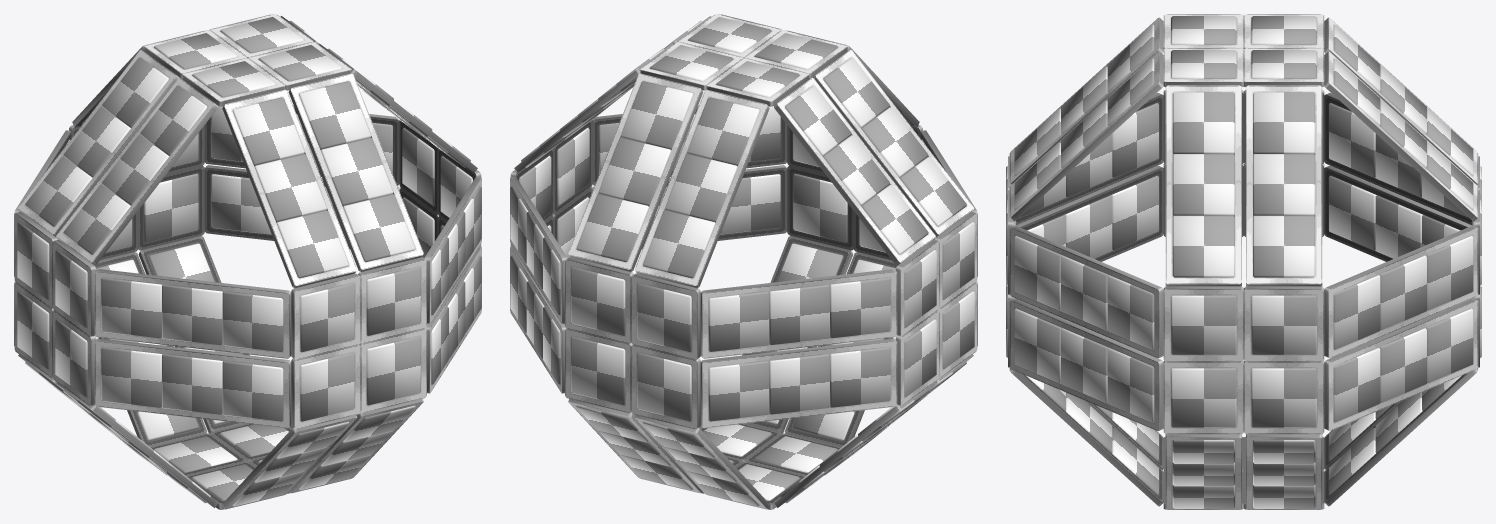
The model's file is minibreakdownplanetgalaxy.dae.
The picture shows the model from 3 angles, left to right: view 1: azimuth 30°, elevation 25°; view 2: azimuth 150°, elevation 25°; view 3: azimuth 270°, elevation 25°; orthographic projection. The views are drawn at different scales.
Visible parts, largest first — view 1: n1b1, n0b0; view 2: n1b1, n0b0; view 3: n1b1, n0b0.
Part boxes in pixels (bbox=[...]): n1b1: bbox=[17, 17, 481, 506]; n0b0: bbox=[14, 14, 481, 509]; n1b1: bbox=[510, 17, 974, 506]; n0b0: bbox=[510, 14, 977, 509]; n1b1: bbox=[1006, 16, 1481, 508]; n0b0: bbox=[1008, 14, 1479, 509].
Bounding box in the file's own units: 3796 × 3796 × 3796.
